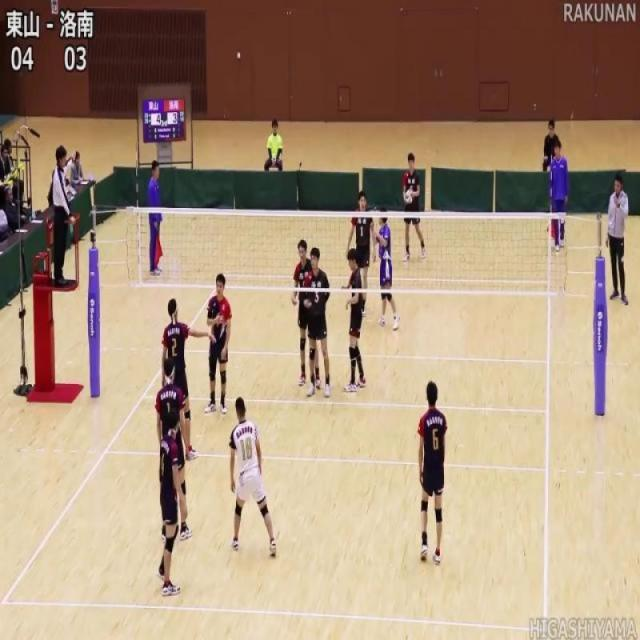volleyball: (404, 188, 414, 205)
